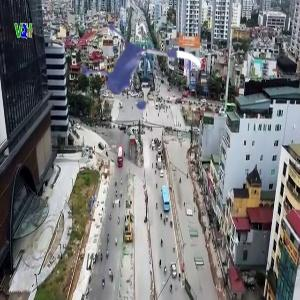drone: (65, 8, 206, 149)
